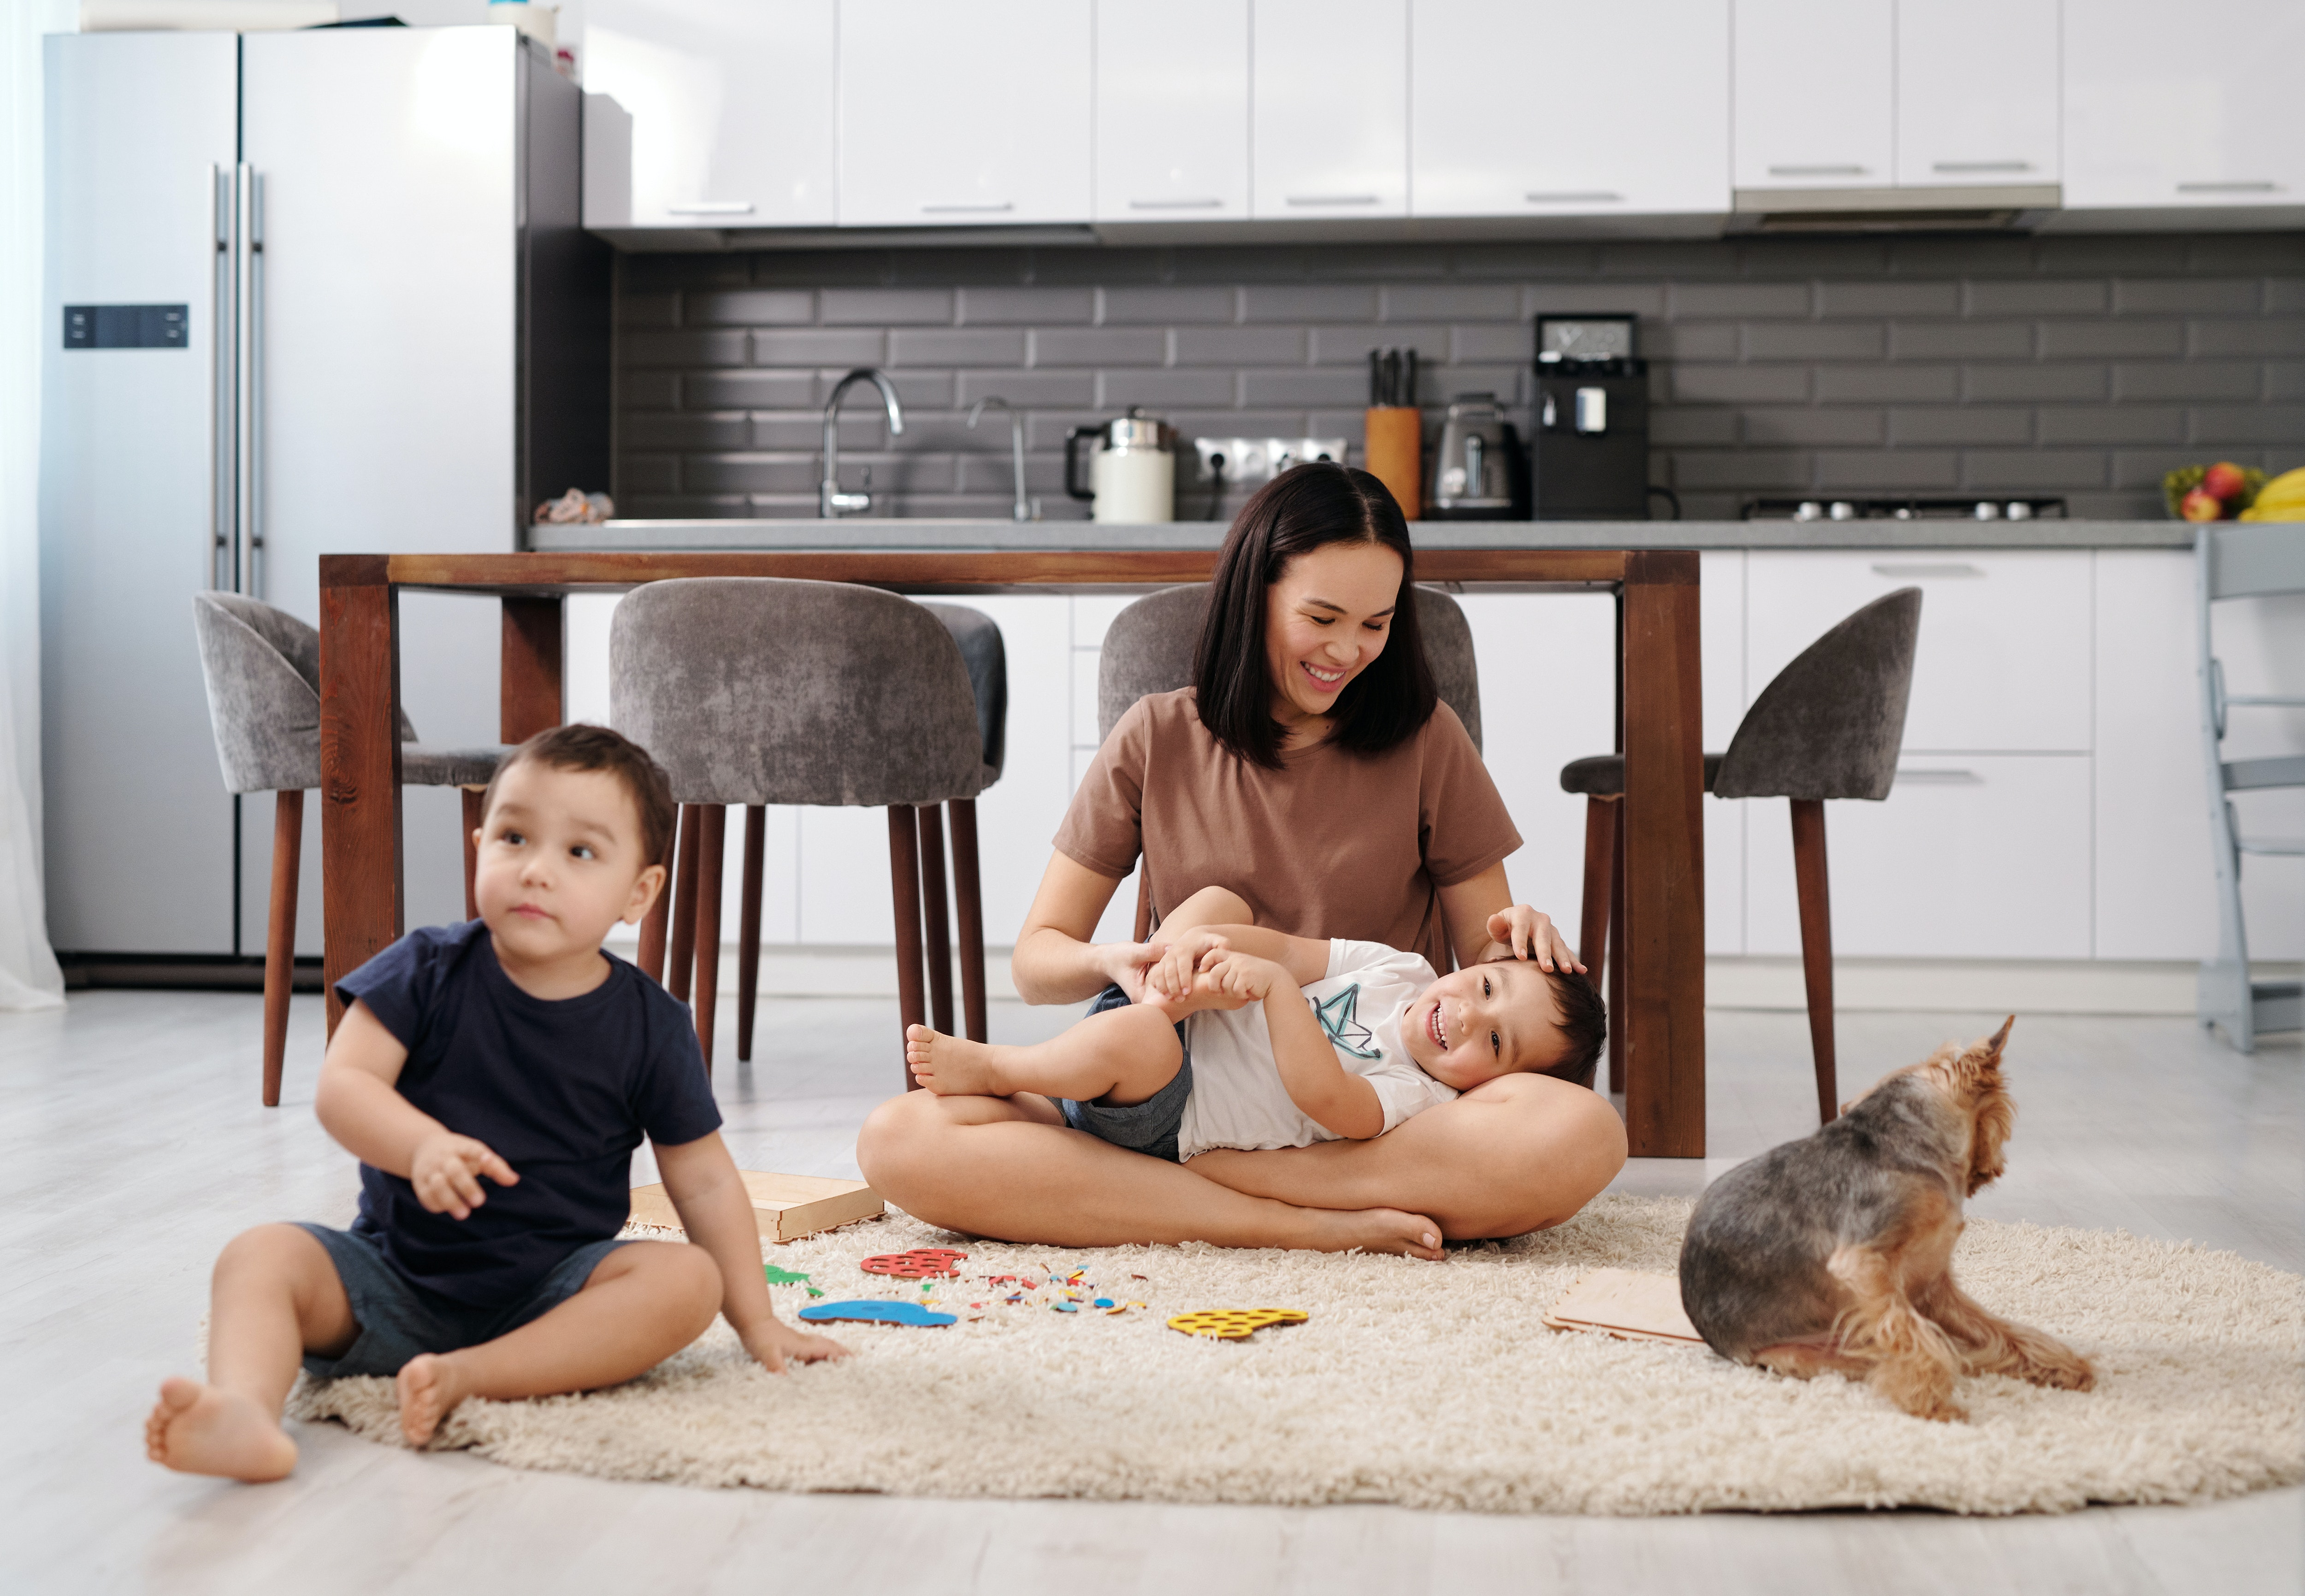cat: (1679, 1057, 2104, 1416)
person: (876, 472, 1626, 1236), (142, 727, 827, 1481), (907, 950, 1604, 1089)
